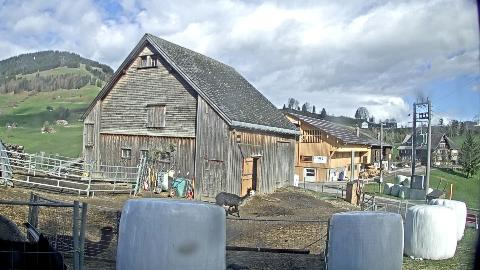car: (391, 164, 396, 170)
sheep: (40, 226, 118, 256), (214, 186, 256, 218), (0, 214, 32, 244)
